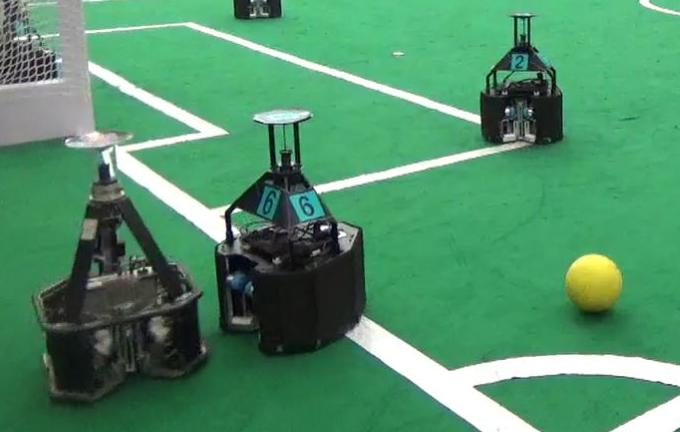robot: (33, 124, 211, 406), (208, 102, 374, 358), (478, 10, 568, 147)
